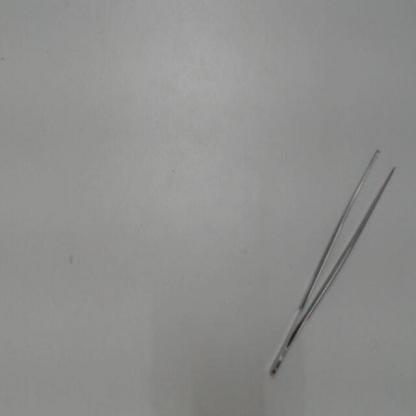Gillies Toothed Dissector: (262, 137, 409, 385)
